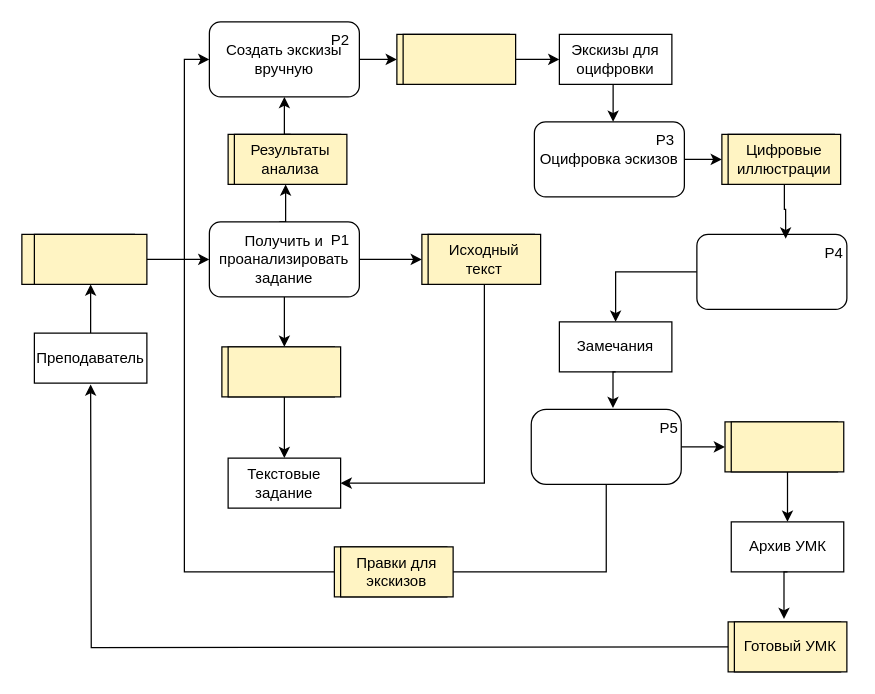
Some shapes in this 875 by 694 pixel diagram are drawn without their labels. Each missing label, with the box of its shape:
Внесение правок и утверждения: (530, 408, 681, 484)
Согласование с преподавателем: (696, 233, 847, 309)
Техническое задание: (33, 233, 147, 284)
Требования: (227, 346, 341, 397)
Утвержденные материалы: (730, 421, 844, 472)
Эскизы на бумаге или на планшете: (402, 33, 516, 84)
